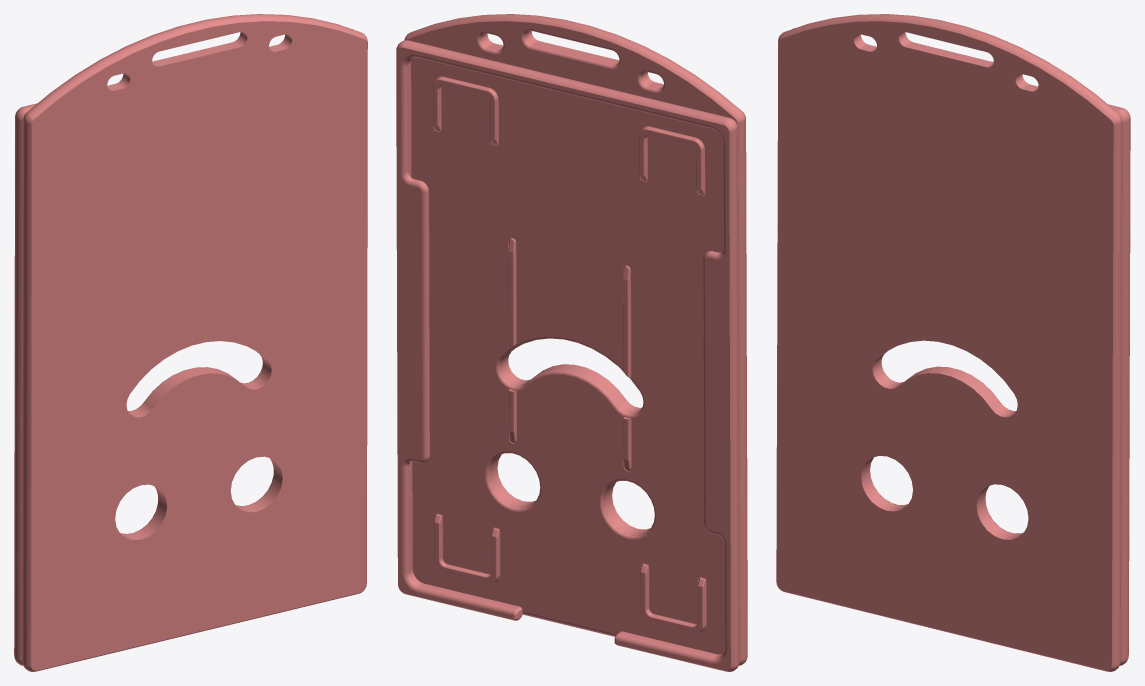
File: mesnap_strawberry_pink.glb
The picture shows the model from 3 angles, left to right: view 1: azimuth 30°, elevation 25°; view 2: azimuth 150°, elevation 25°; view 3: azimuth 330°, elevation 25°; orthographic projection.
Parts seen in each view (by area): view 1: Body1, Body2; view 2: Body2, Body1; view 3: Body1, Body2.
Part boxes in pixels (x1=…): Body1: x1=22, y1=14, x2=367, y2=671; Body2: x1=14, y1=28, x2=353, y2=665; Body2: x1=396, y1=40, x2=739, y2=671; Body1: x1=404, y1=14, x2=747, y2=665; Body1: x1=776, y1=14, x2=1122, y2=671; Body2: x1=793, y1=28, x2=1130, y2=665.
Bounding box in the file's own units: 0.0594 × 0.1006 × 0.00505.
